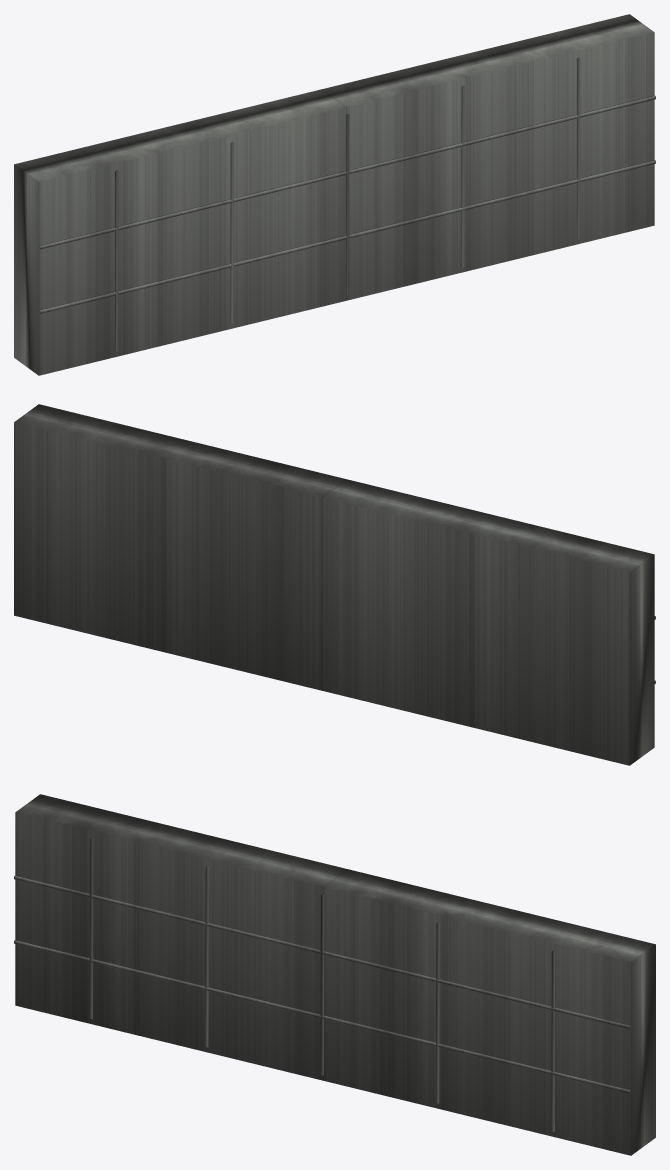
Rendered from HILL_RetainingWall_4m.obj.
The picture shows the model from 3 angles, top to bottom: view 1: azimuth 30°, elevation 25°; view 2: azimuth 150°, elevation 25°; view 3: azimuth 330°, elevation 25°; orthographic projection.
Visible parts, largest first — view 1: HILL_RetainingWall_4m; view 2: HILL_RetainingWall_4m; view 3: HILL_RetainingWall_4m.
Part boxes in pixels (box(x1,y1,x2,y2)): HILL_RetainingWall_4m: box(14, 14, 655, 375); HILL_RetainingWall_4m: box(14, 404, 655, 765); HILL_RetainingWall_4m: box(14, 794, 655, 1155).
Size of the model in its own units: 4 by 1.2 by 0.296.
Materials: 1 (1 with a texture image).
